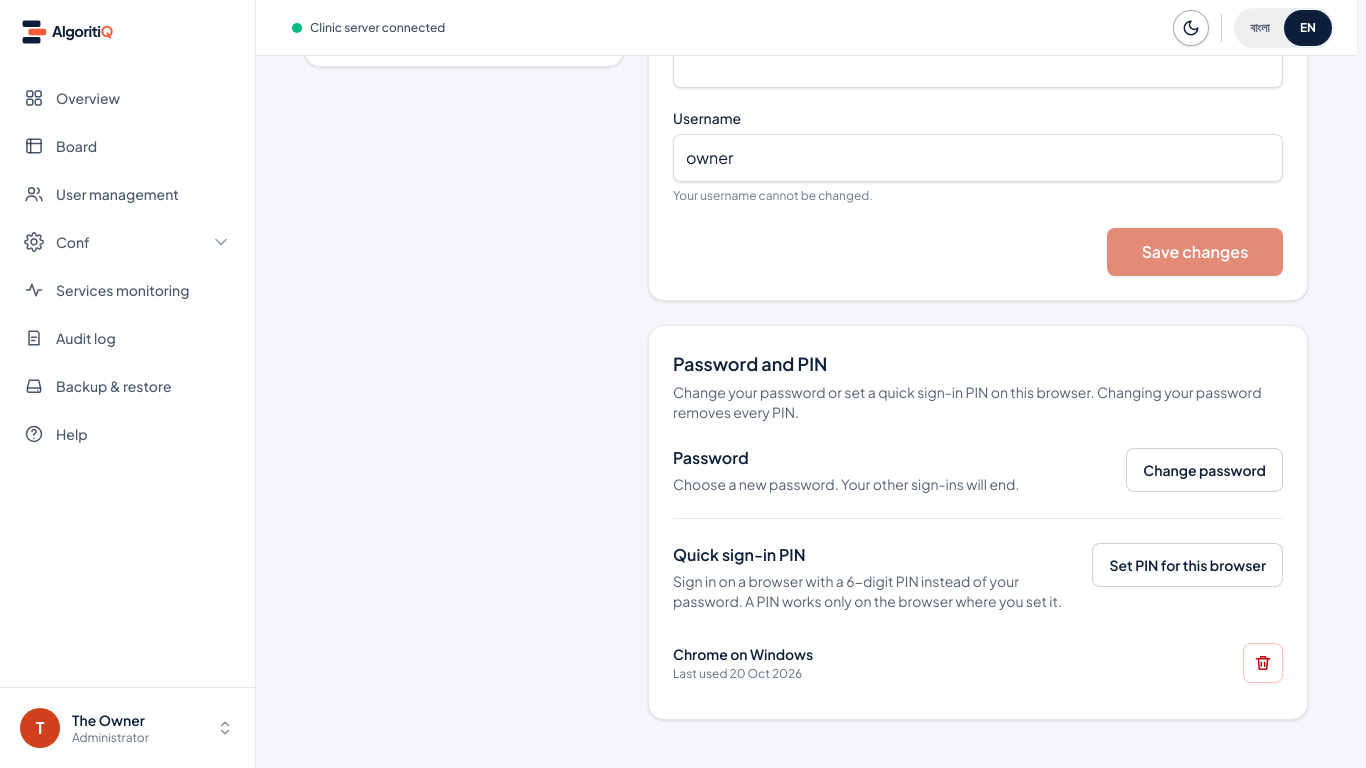
PIN card in settings › removing a PIN › should explain when the tablet cannot remove it
This screenshot has width=1366, height=768.
(page scrolled)
Expected: the heading "Password and PIN" is shown, [673,352,827,375]
What coordinates should you click on to do the following:
click the button named "Remove PIN: Chrome on Windows"
I would click on:
 (1263, 663)
Its box is [1243,643,1283,683].
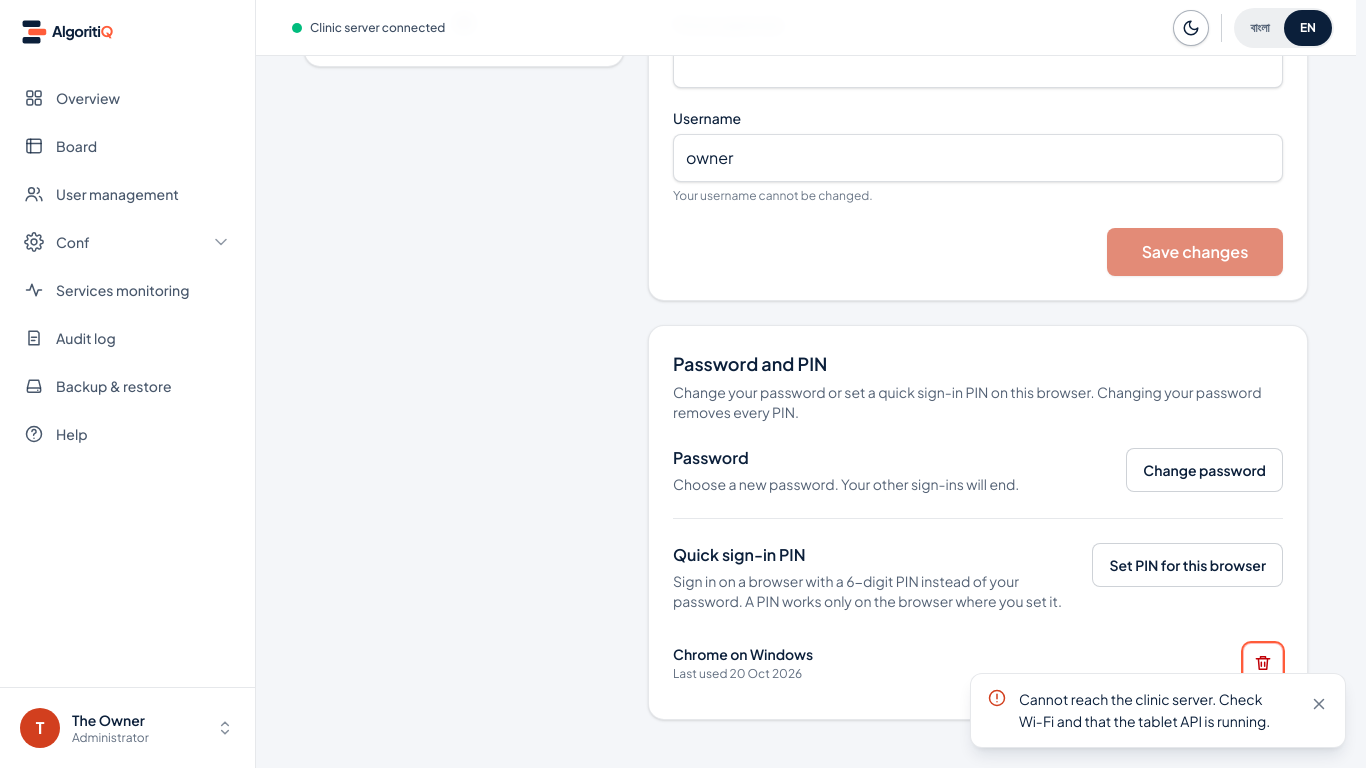
Expected: the text "Cannot reach the clinic server" is shown, [1019,690,1270,730]
